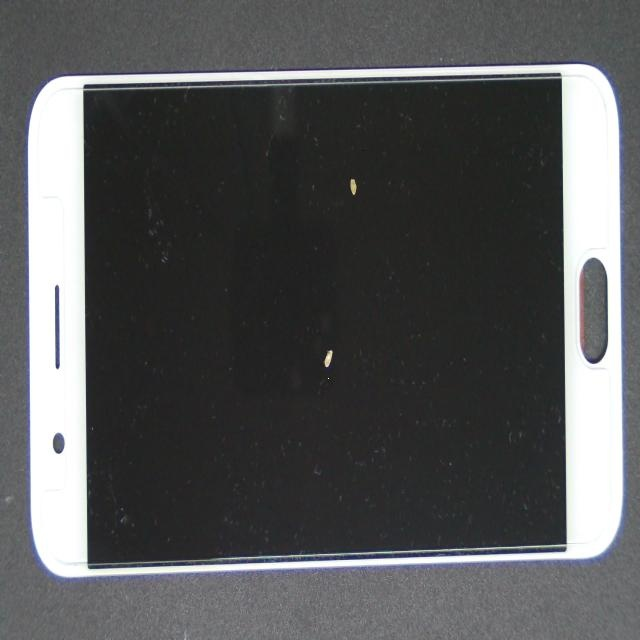stain: (163, 155, 475, 532), (167, 109, 503, 328)
